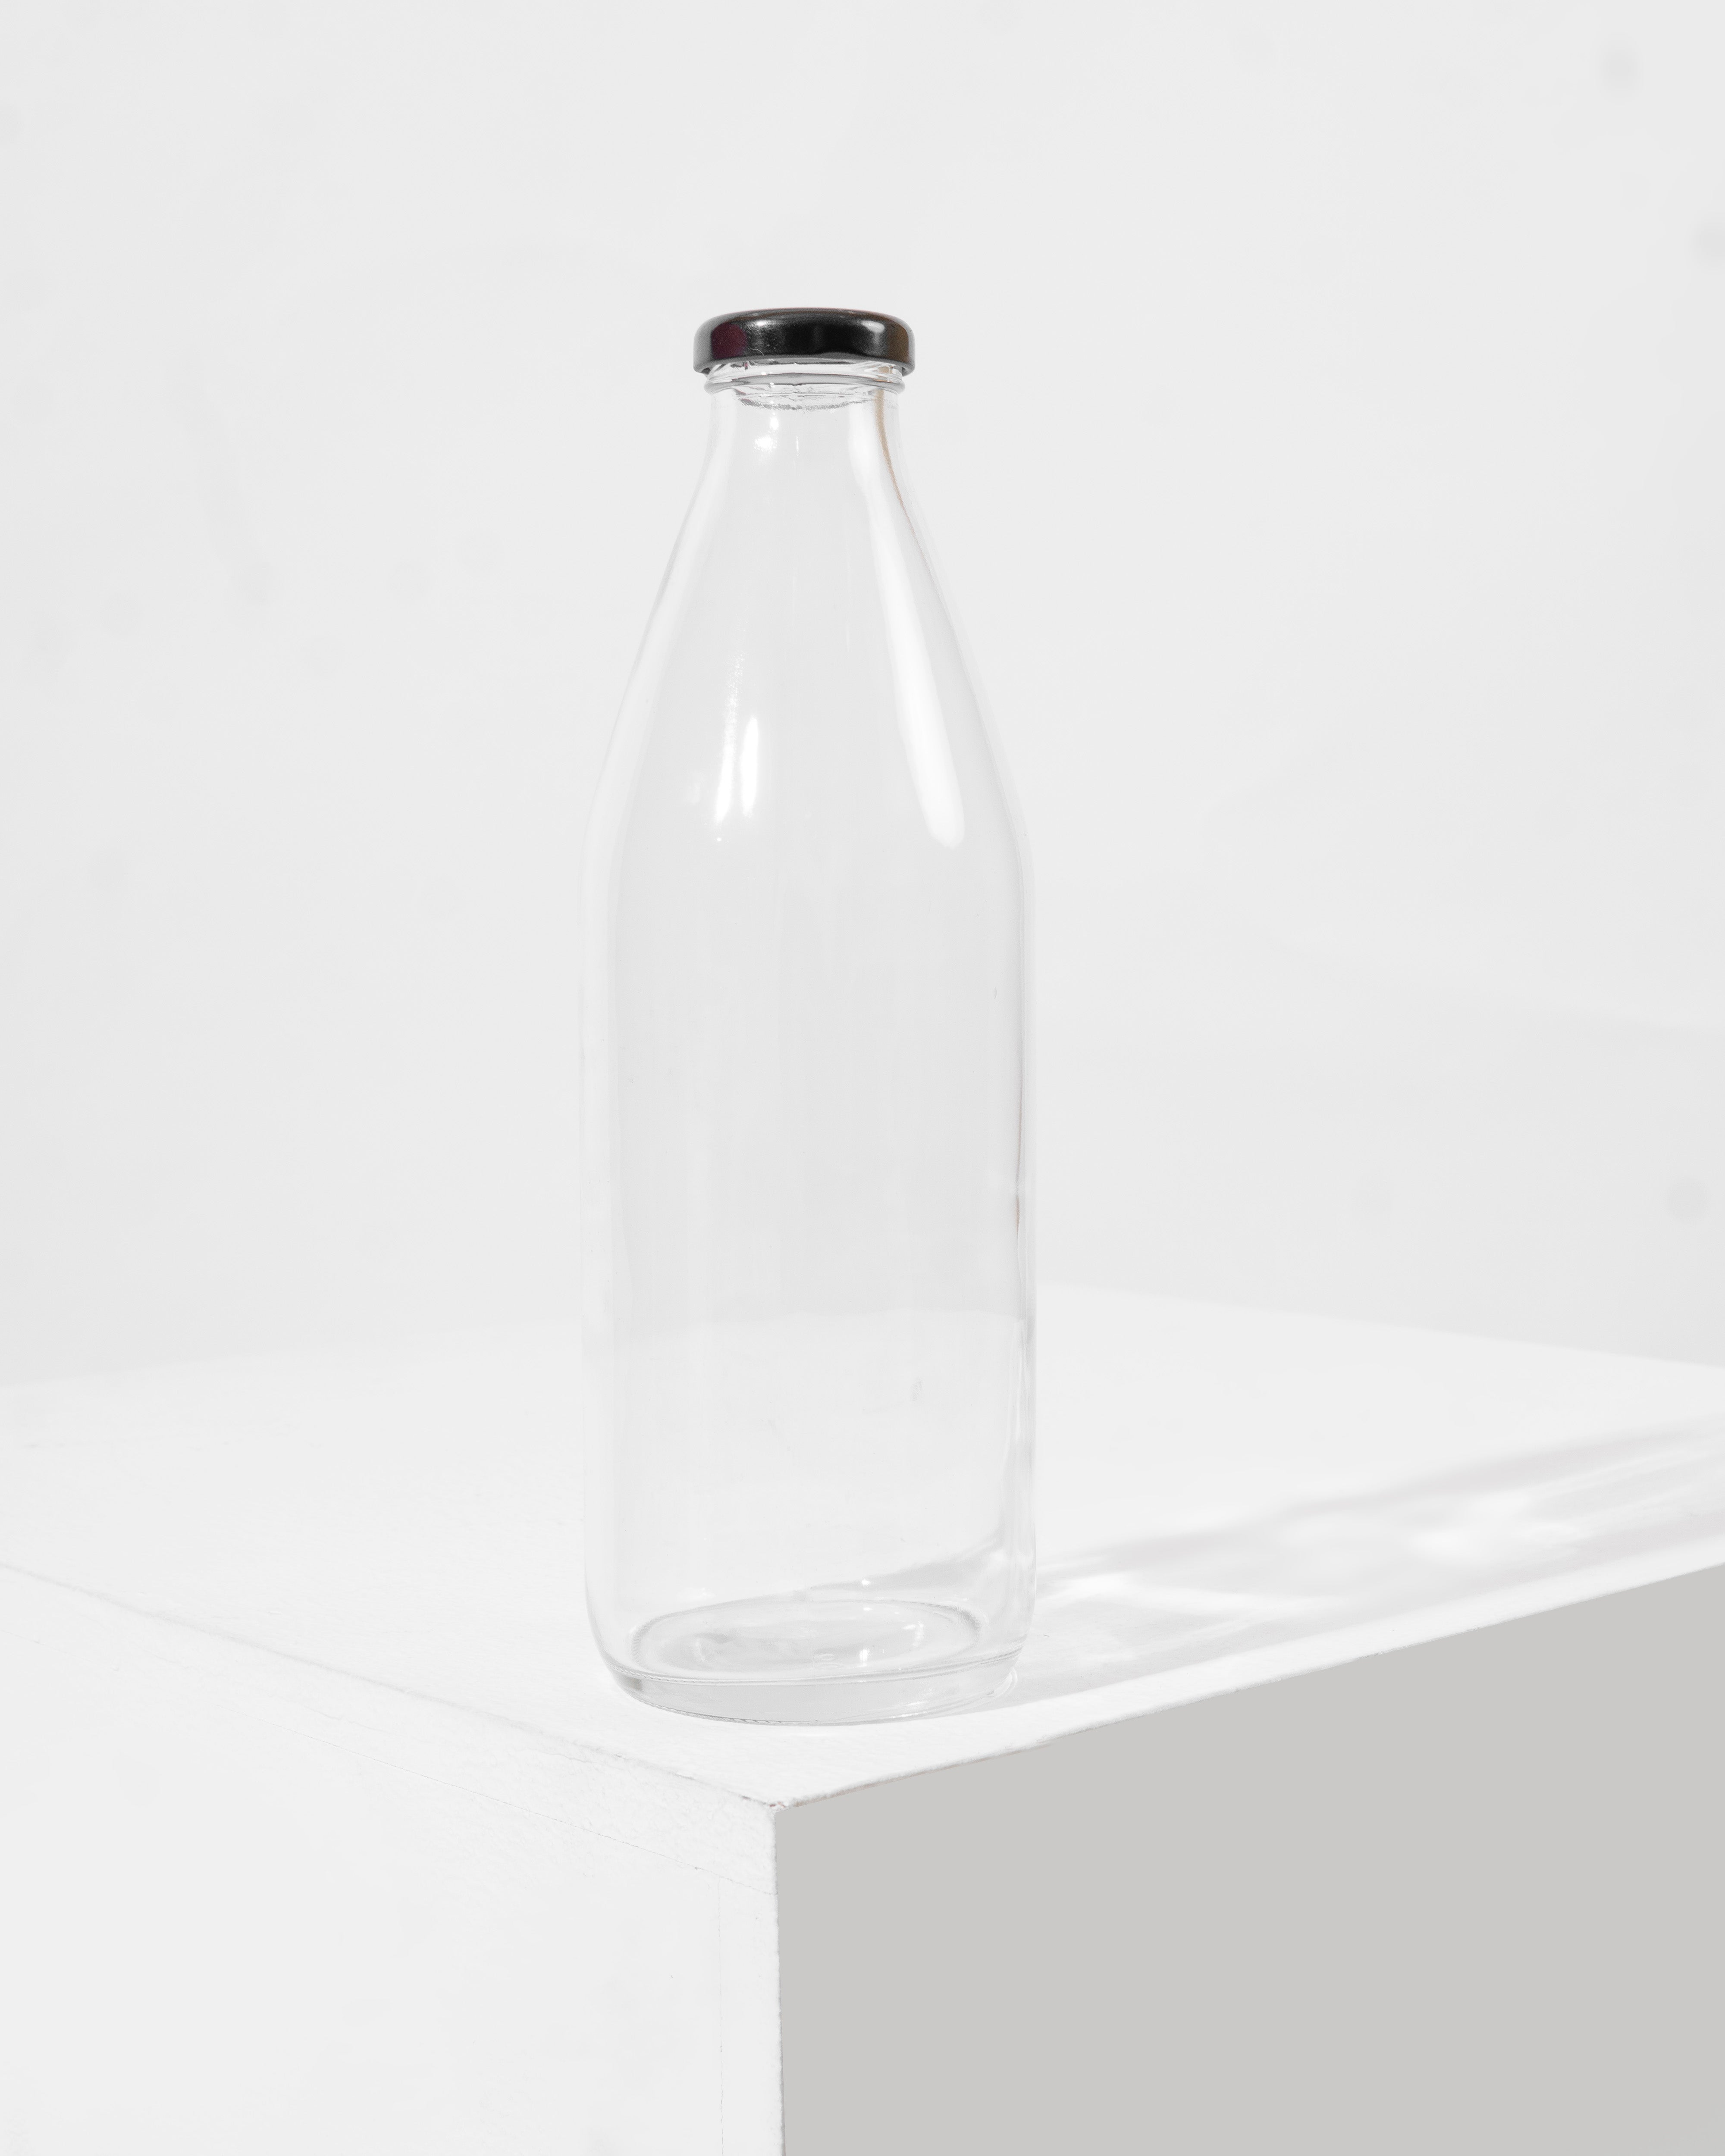glass_bottle: (525, 246, 1104, 1753)
